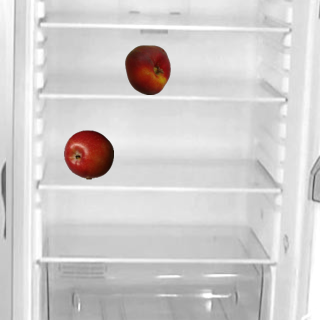Apple Braeburn: (63, 129, 113, 179)
Nectarine Flat: (122, 44, 172, 94)
